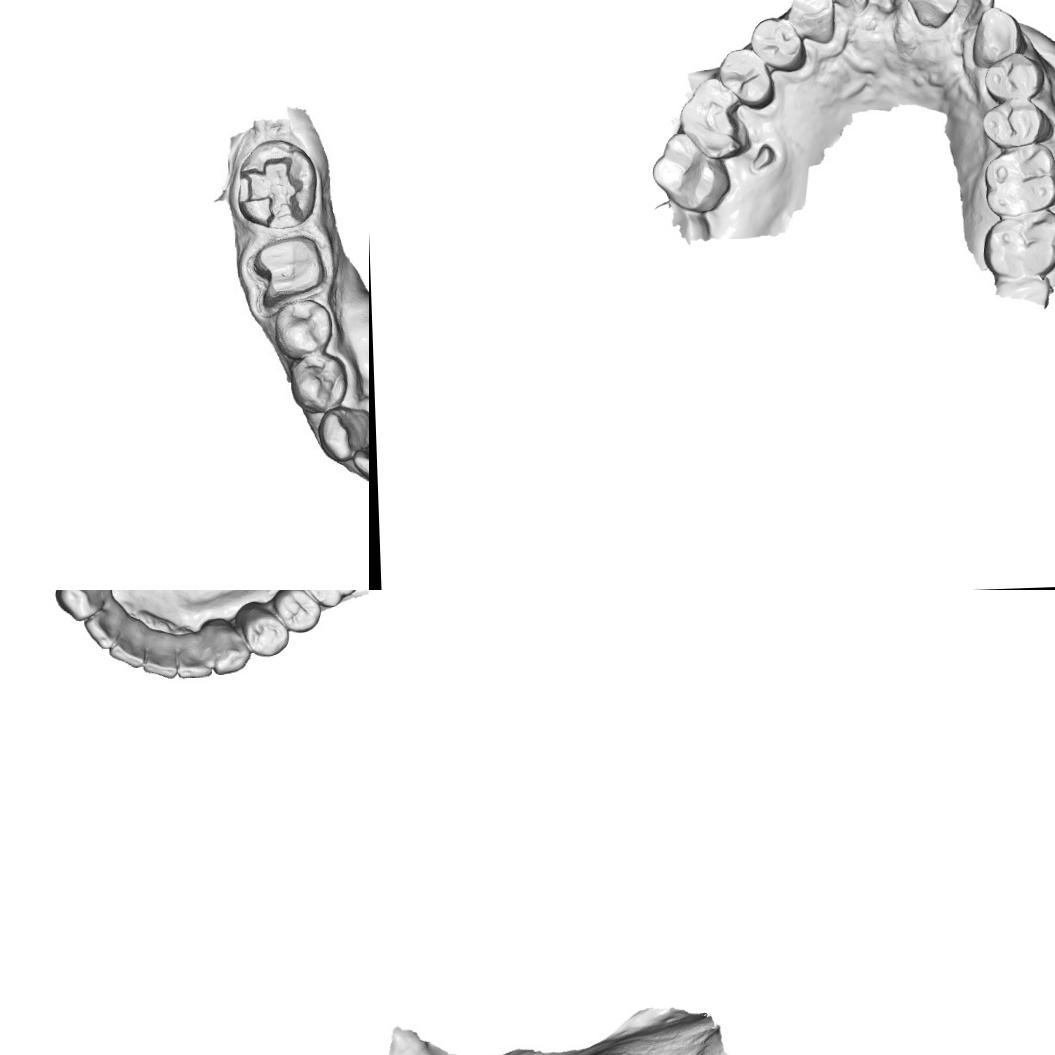canine: (969, 4, 1022, 68), (316, 404, 369, 464), (207, 623, 253, 676), (787, 0, 837, 46), (53, 590, 107, 623)
crown: (248, 231, 329, 311)
incisor: (106, 618, 148, 671), (84, 597, 119, 651), (141, 632, 179, 681), (175, 634, 213, 680), (904, 0, 960, 30), (953, 0, 996, 31), (349, 434, 369, 489), (823, 0, 871, 18)
inlay: (234, 154, 310, 229)
molar: (650, 129, 732, 216), (674, 74, 750, 162), (981, 143, 1055, 218), (980, 208, 1055, 280), (294, 590, 364, 611)
premolar: (287, 351, 350, 416), (979, 97, 1054, 150), (716, 46, 776, 112), (272, 296, 334, 359), (982, 51, 1046, 108), (748, 14, 806, 74), (240, 602, 291, 659), (269, 590, 323, 635)
